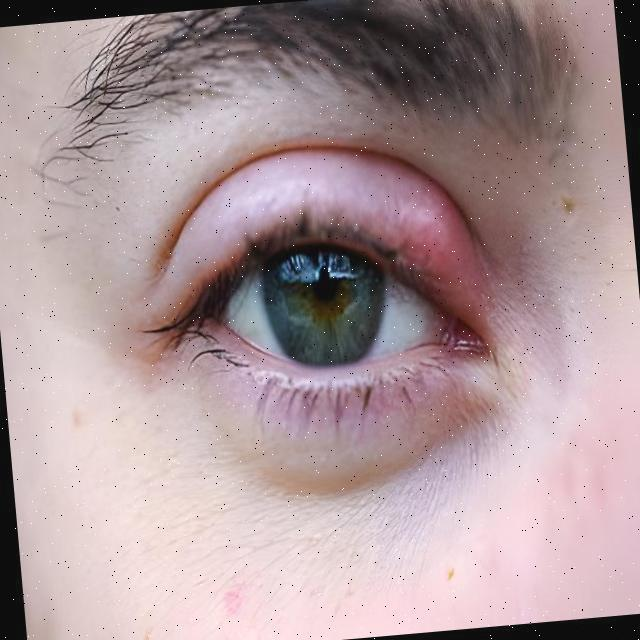Stye: (302, 157, 554, 316)
